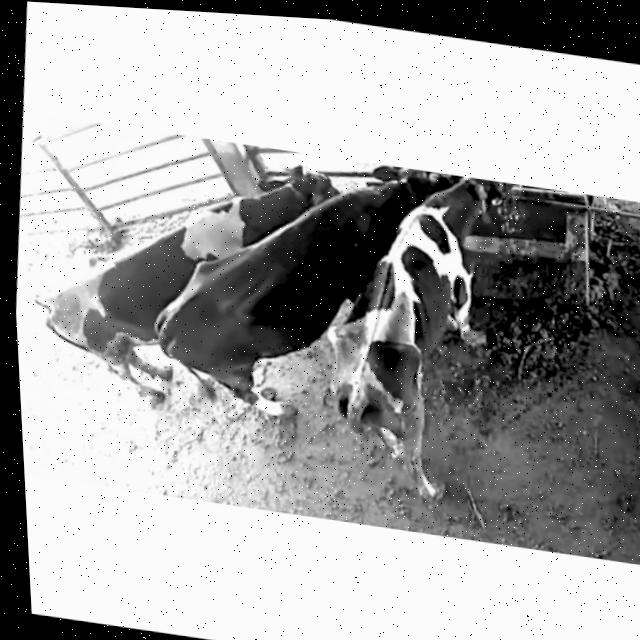drink: (402, 167, 527, 274), (336, 158, 444, 250)
